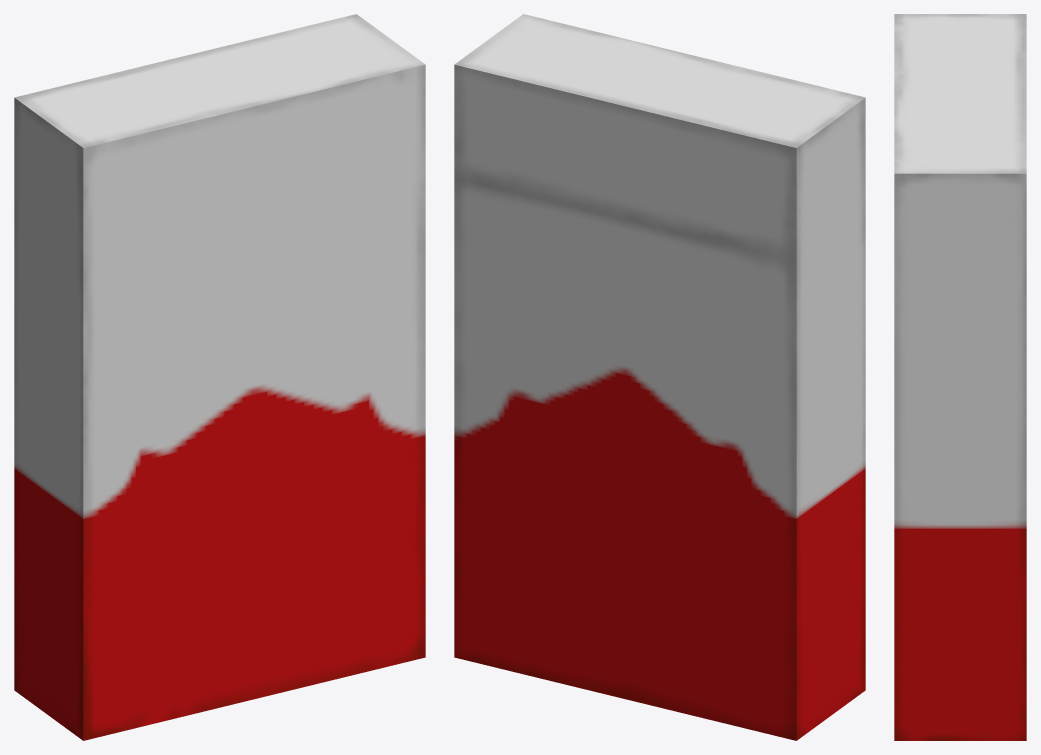
The model's file is CigaretteBox_1.fbx.
3 renders of one model, left to right at view 1: azimuth 30°, elevation 25°; view 2: azimuth 150°, elevation 25°; view 3: azimuth 270°, elevation 25°, orthographic. The views are drawn at different scales.
Visible parts, largest first — view 1: CigaretteBox_1; view 2: CigaretteBox_1; view 3: CigaretteBox_1.
Part boxes in pixels (x1=…): CigaretteBox_1: x1=14, y1=14, x2=425, y2=740; CigaretteBox_1: x1=454, y1=14, x2=865, y2=740; CigaretteBox_1: x1=894, y1=14, x2=1026, y2=740.
Size of the model in its own units: 0.0508 by 0.0841 by 0.0178.
